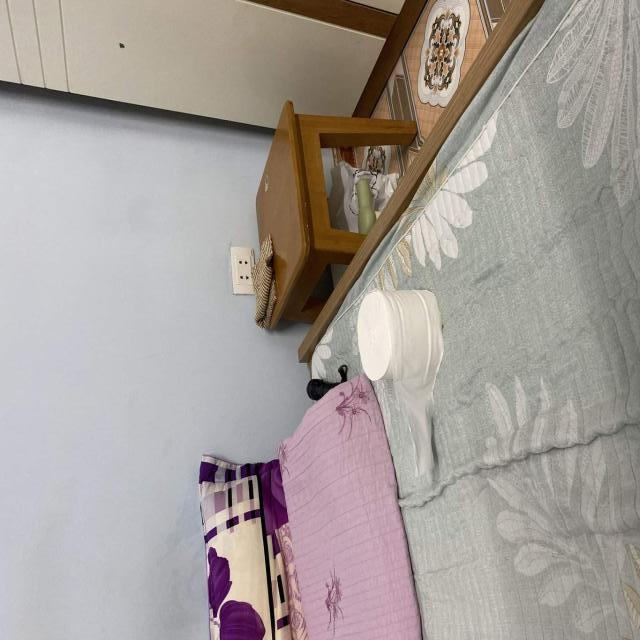outlet: (229, 247, 255, 296)
